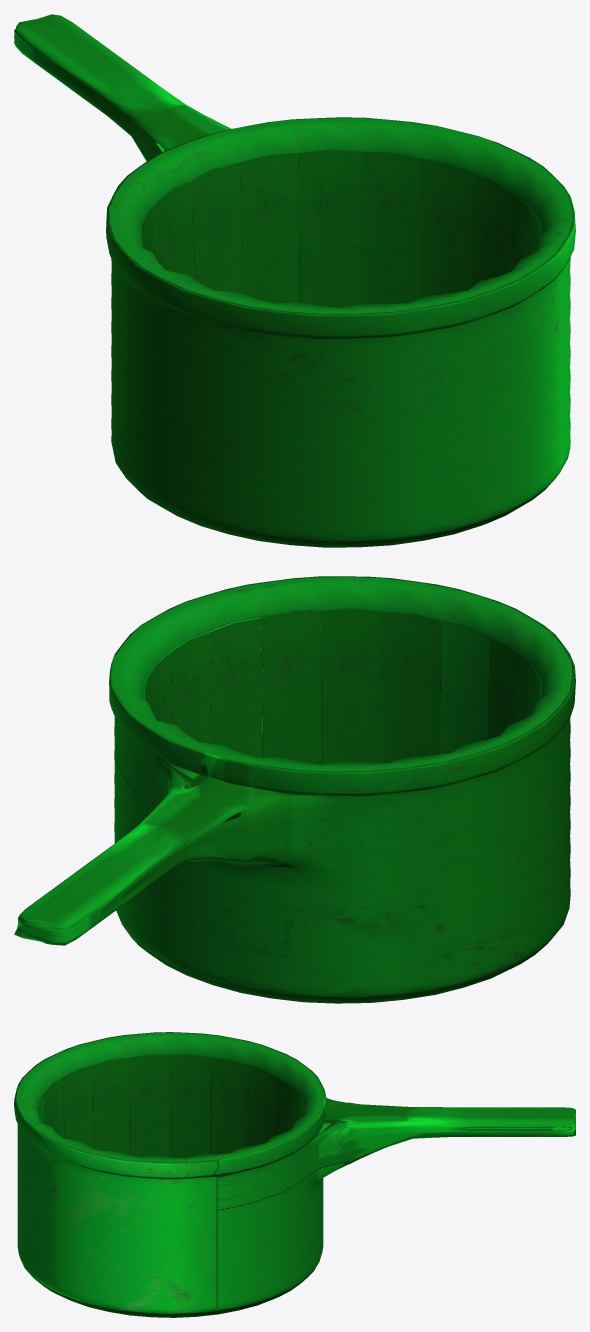
Rendered from potlow.fbx.
The picture shows the model from 3 angles, top to bottom: view 1: azimuth 30°, elevation 25°; view 2: azimuth 150°, elevation 25°; view 3: azimuth 270°, elevation 25°; orthographic projection. The views are drawn at different scales.
Parts seen in each view (by area): view 1: pot:pCylinder1_pCylinder1; view 2: pot:pCylinder1_pCylinder1; view 3: pot:pCylinder1_pCylinder1.
Boxes of the visible parts, bbox=[...] form: pot:pCylinder1_pCylinder1: bbox=[14, 14, 575, 547]; pot:pCylinder1_pCylinder1: bbox=[14, 576, 575, 1003]; pot:pCylinder1_pCylinder1: bbox=[14, 1032, 575, 1317].
Size of the model in its own units: 88.74 by 50.13 by 159.
